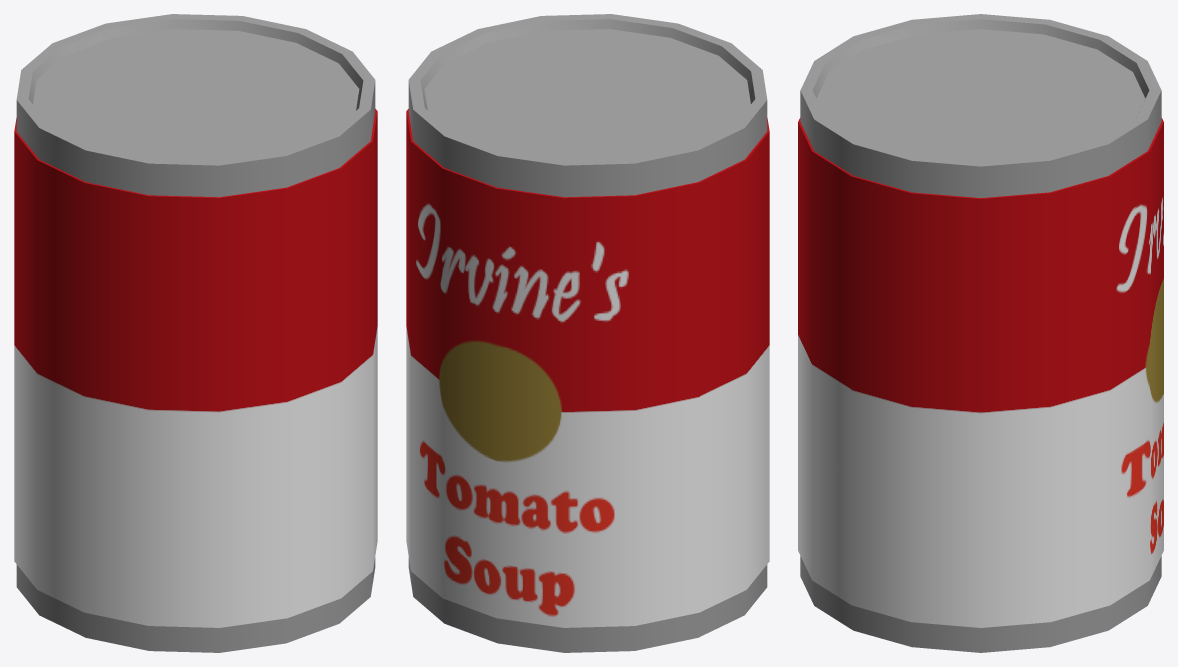
The model's file is newSoup.fbx.
3 renders of one model, left to right at view 1: azimuth 30°, elevation 25°; view 2: azimuth 150°, elevation 25°; view 3: azimuth 270°, elevation 25°, orthographic.
Visible parts, largest first — view 1: Cylinder.001, Cylinder; view 2: Cylinder.001, Cylinder; view 3: Cylinder.001, Cylinder.
Boxes of the visible parts, bbox=[...] form: Cylinder.001: bbox=[14, 109, 377, 627]; Cylinder: bbox=[16, 14, 375, 652]; Cylinder.001: bbox=[406, 109, 769, 627]; Cylinder: bbox=[408, 14, 767, 652]; Cylinder.001: bbox=[798, 118, 1163, 627]; Cylinder: bbox=[800, 14, 1161, 652].
Size of the model in its own units: 203 by 297 by 203.
